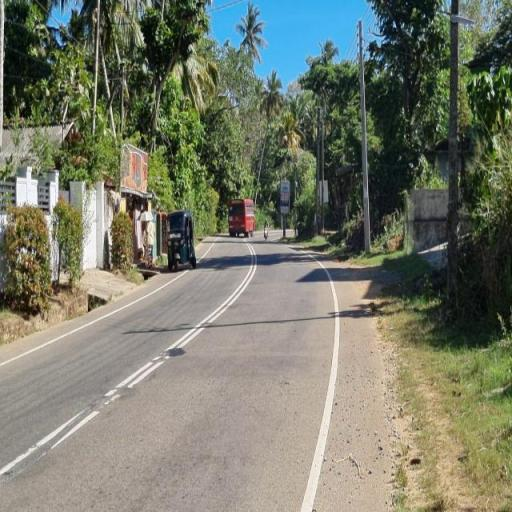double_white_line: (107, 241, 258, 405)
